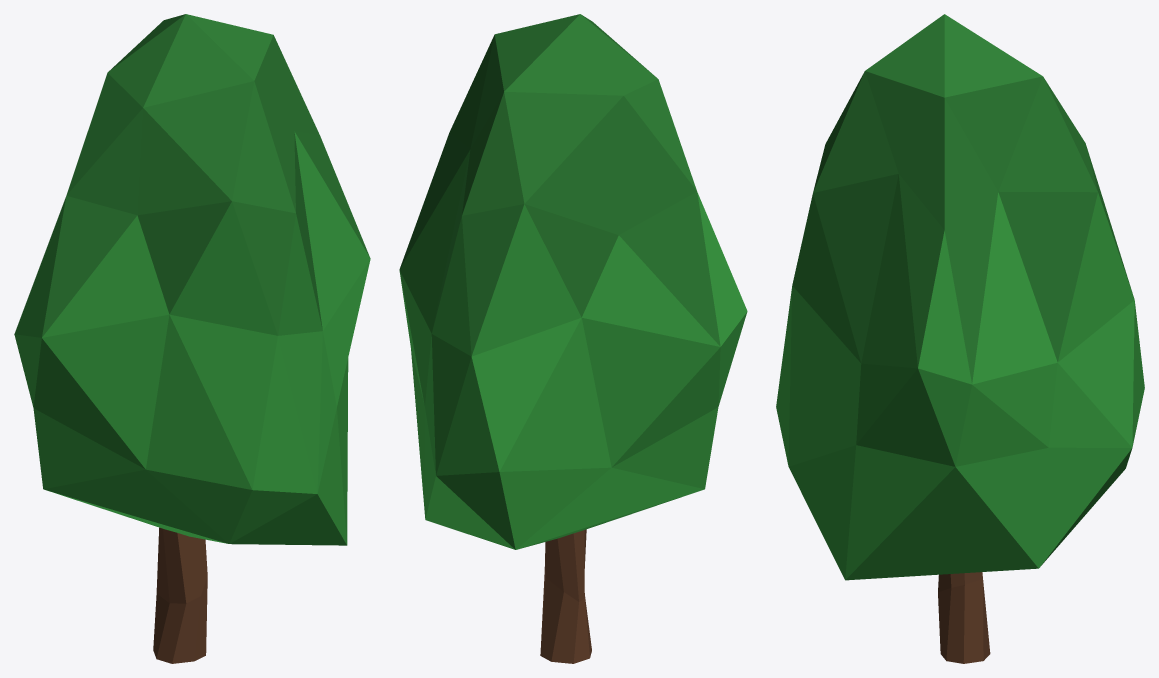
The model's file is Tree_59_Green.fbx.
3 renders of one model, left to right at view 1: azimuth 30°, elevation 25°; view 2: azimuth 150°, elevation 25°; view 3: azimuth 270°, elevation 25°, orthographic. The views are drawn at different scales.
Parts seen in each view (by area): view 1: Tree_59_Green_Part_1, Tree_59_Green_Part_2; view 2: Tree_59_Green_Part_1, Tree_59_Green_Part_2; view 3: Tree_59_Green_Part_1, Tree_59_Green_Part_2.
Boxes of the visible parts, box(x1,y1,x2,y2) form: Tree_59_Green_Part_1: box(14, 14, 370, 545); Tree_59_Green_Part_2: box(153, 527, 207, 663); Tree_59_Green_Part_1: box(399, 14, 747, 549); Tree_59_Green_Part_2: box(540, 529, 591, 663); Tree_59_Green_Part_1: box(776, 14, 1144, 580); Tree_59_Green_Part_2: box(938, 572, 990, 663).
Bounding box in the file's own units: 425 × 800 × 420.
